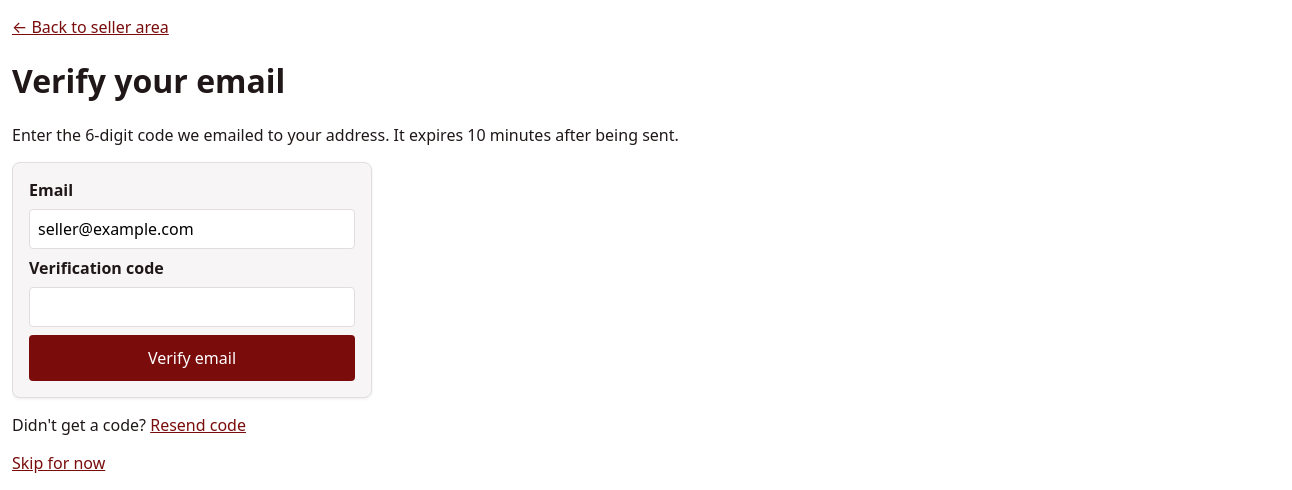
it: VerifyEmail › on success, shows the verified state with a log-in link when no session exists
Type "123456" into the field labelled "Verification code" at (192, 307), box [29,287,355,327]
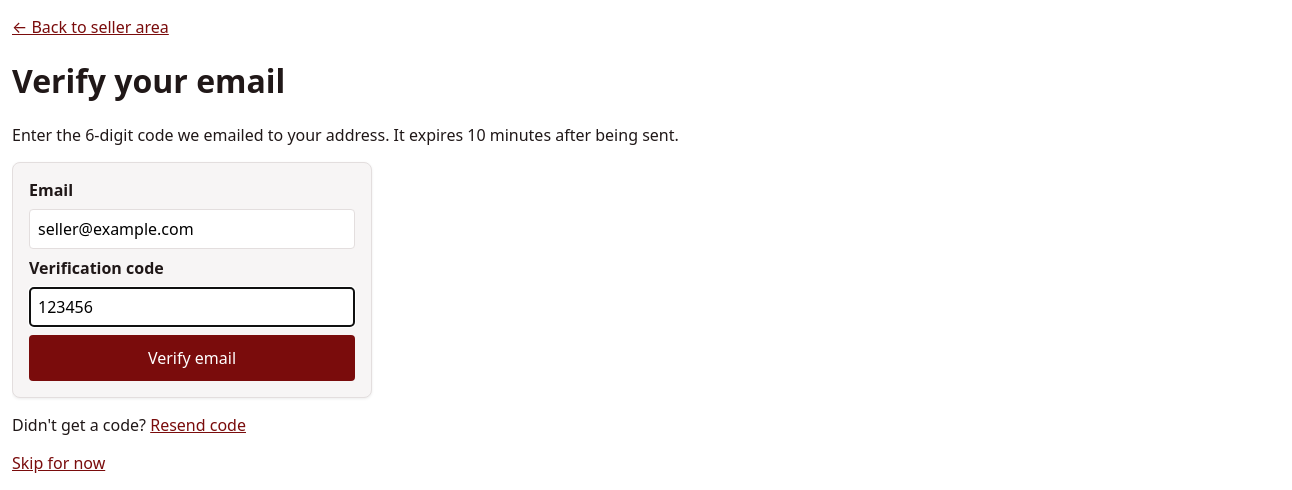
Click the button "Verify email" at (192, 358), box [29,335,355,381]
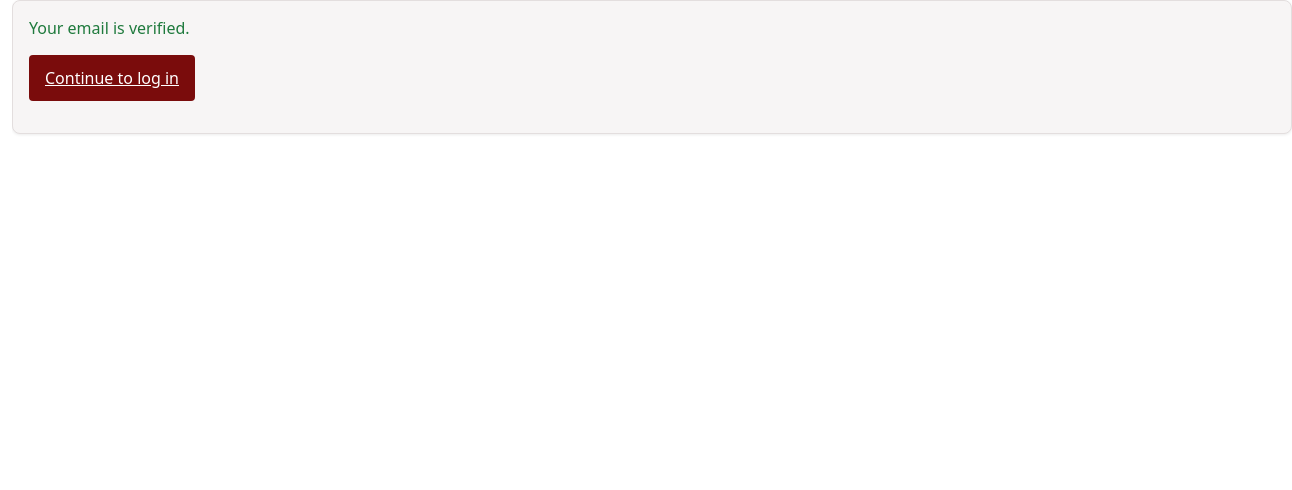
Check: the text "Your email is verified." is shown, box [29,17,190,39]
